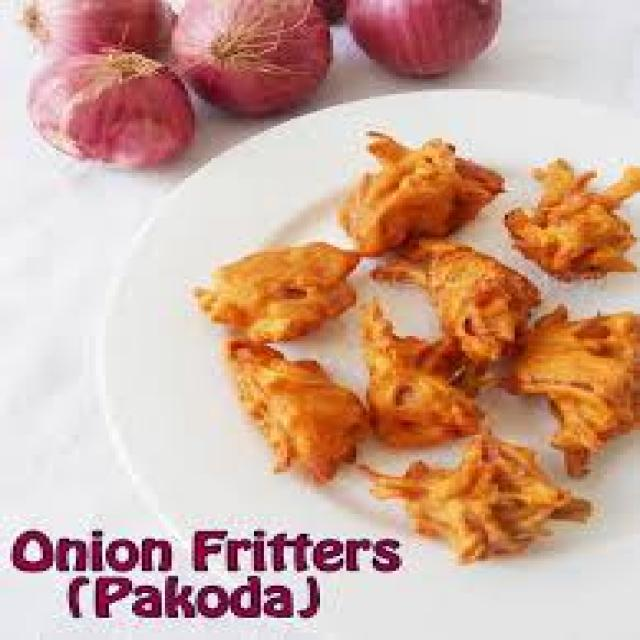BAJI: (195, 242, 478, 482), (369, 435, 584, 558), (508, 309, 637, 474), (376, 240, 538, 366), (340, 136, 485, 252), (505, 158, 637, 277)
